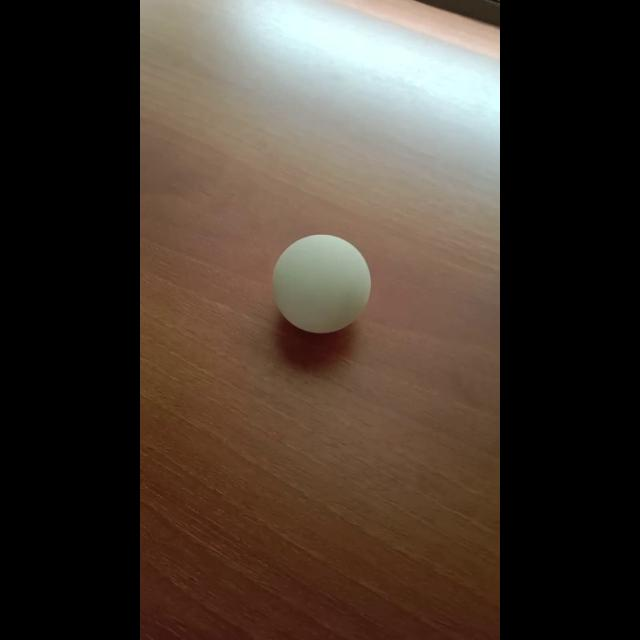white ball: (271, 233, 371, 334)
